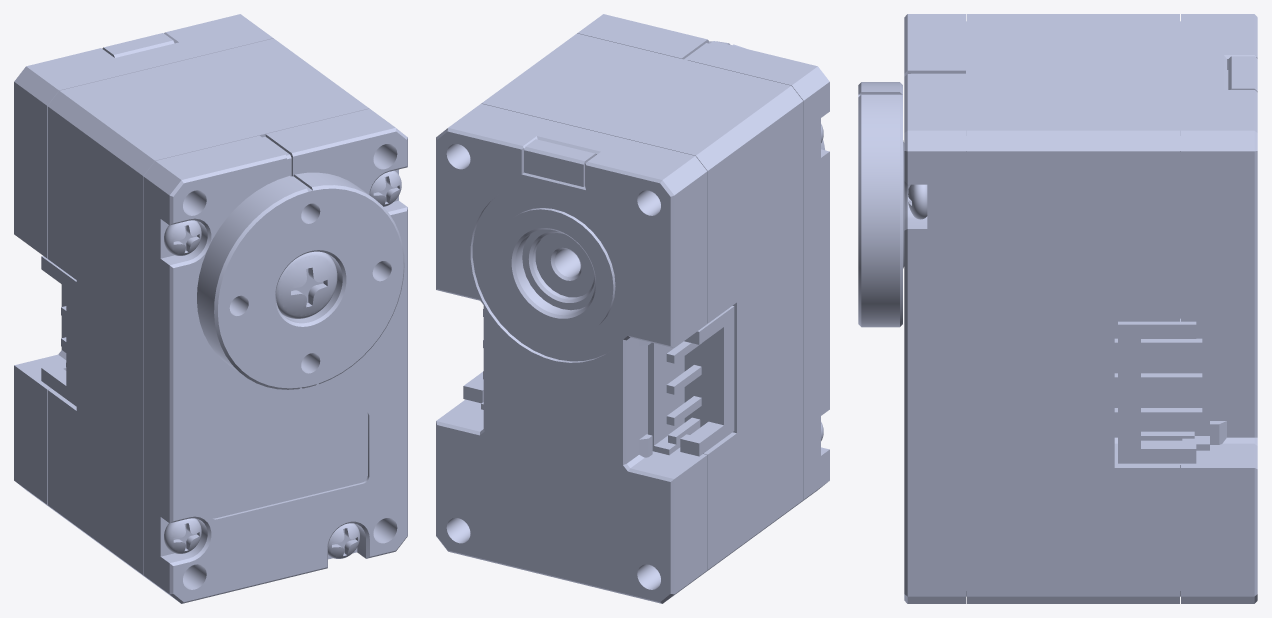
3 views of the same model, side by side, from view 1: azimuth 30°, elevation 25°; view 2: azimuth 150°, elevation 25°; view 3: azimuth 270°, elevation 25° (orthographic). The views are drawn at different scales.
Parts seen in each view (by area): view 1: node0; view 2: node0; view 3: node0.
Part boxes in pixels (left/top/right/bottom): node0: left=14, top=14, right=407, bottom=603; node0: left=436, top=14, right=829, bottom=603; node0: left=858, top=14, right=1257, bottom=603.
Size of the model in its own units: 0.02 by 0.034 by 0.026.
